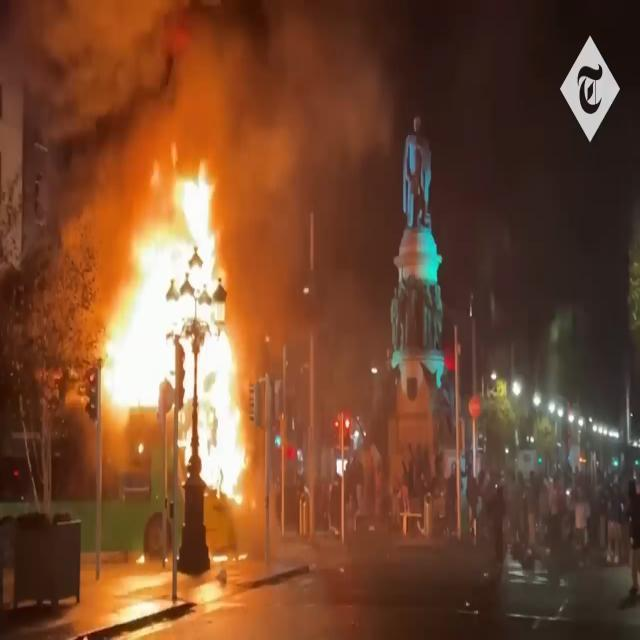Fire: (83, 154, 267, 532)
